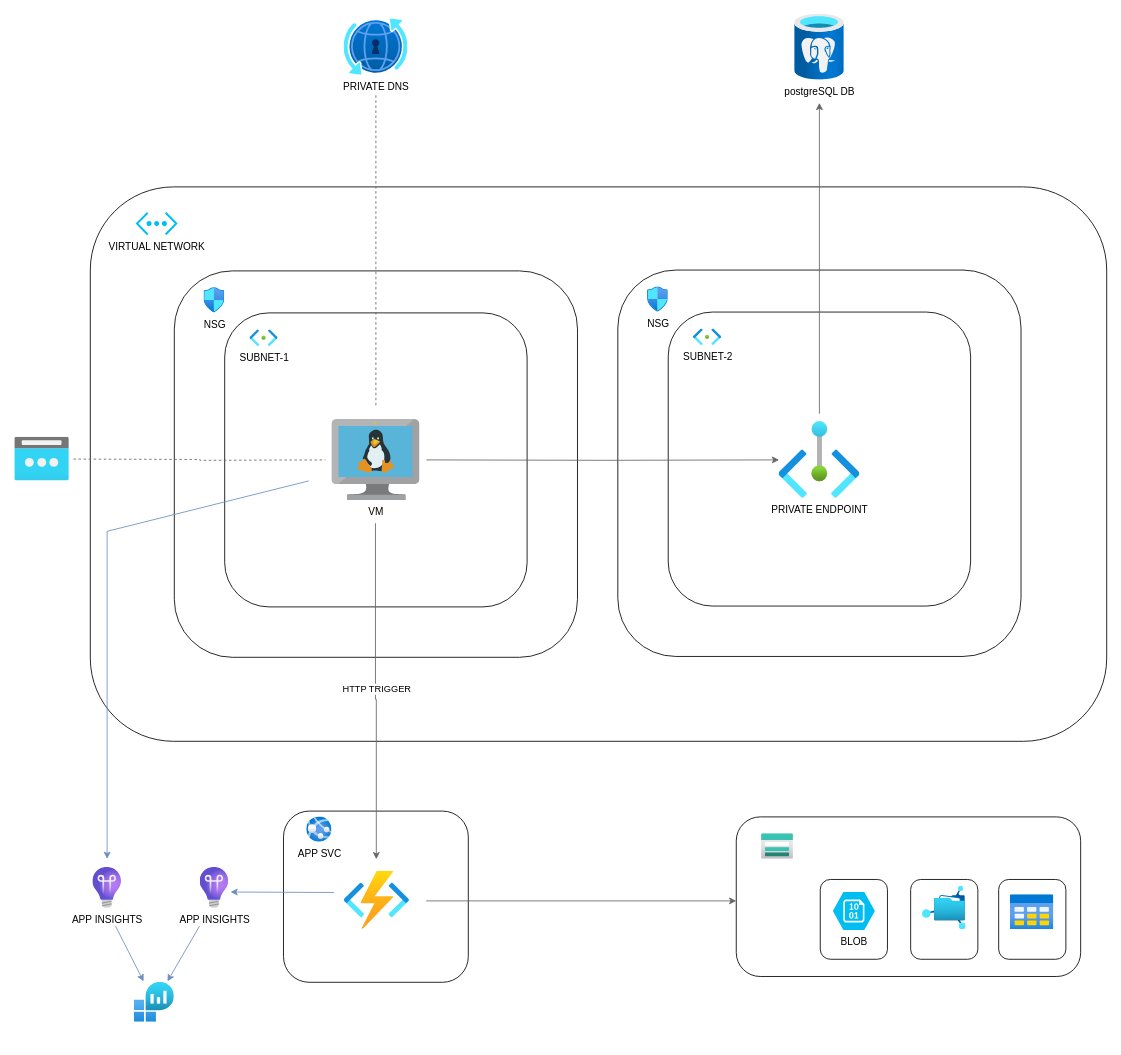
This 1121x1055 diagram has some shape labels left out. The centre of each missing label's shape, as x and y in pixels:
APP FUNCTION: the point at 376,900
AZ. FILES: the point at 944,907
LOG ANALYT. WS: the point at 154,1002
PUBLIC IP: the point at 41,458
STOR. ACC.: the point at 777,846
TABLES: the point at 1031,911
